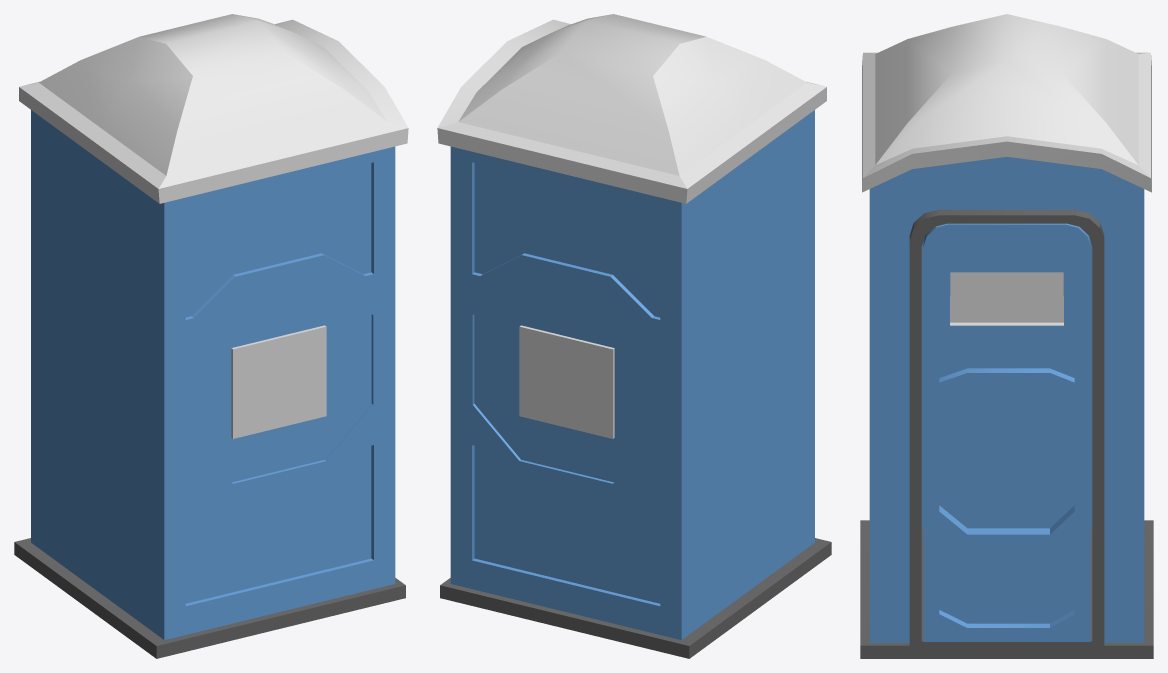
Rendered from toilet.fbx.
3 views of the same model, side by side, from view 1: azimuth 30°, elevation 25°; view 2: azimuth 150°, elevation 25°; view 3: azimuth 270°, elevation 25° (orthographic). The views are drawn at different scales.
Visible parts, largest first — view 1: Cube.001; view 2: Cube.001; view 3: Cube.001.
Boxes of the visible parts, x1,y1,x2,y2 form: Cube.001: (14,14,408,658); Cube.001: (437,14,831,658); Cube.001: (860,14,1153,658).
Bounding box in the file's own units: 221 × 450 × 213.
